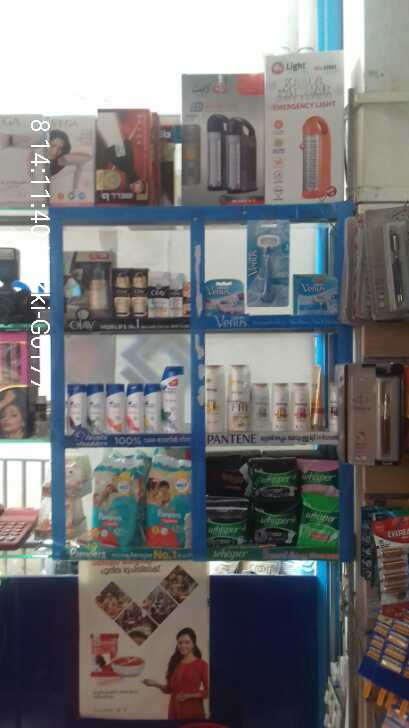venus: (248, 217, 289, 303), (294, 280, 340, 315), (203, 279, 243, 311)
